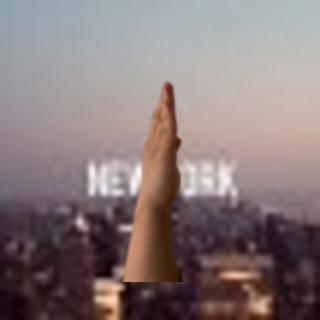RIGHT: (132, 76, 188, 213)
